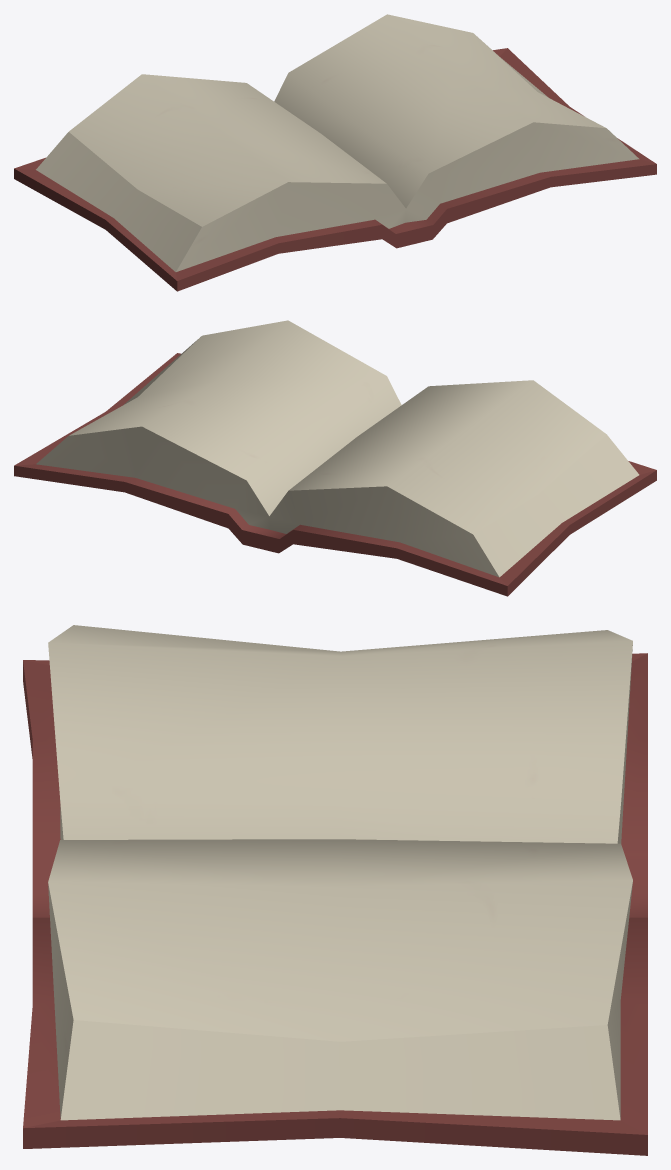
File: book.glb
3 renders of one model, top to bottom at view 1: azimuth 30°, elevation 25°; view 2: azimuth 150°, elevation 25°; view 3: azimuth 270°, elevation 25°, orthographic. The views are drawn at different scales.
Parts seen in each view (by area): view 1: book; view 2: book; view 3: book.
Boxes of the visible parts, x1=… form: book: x1=14, y1=14, x2=656, y2=291; book: x1=14, y1=320, x2=656, y2=596; book: x1=23, y1=625, x2=647, y2=1155.
Size of the model in its own units: 0.6769 by 0.1178 by 0.3711.
1 material, 1 textured.
